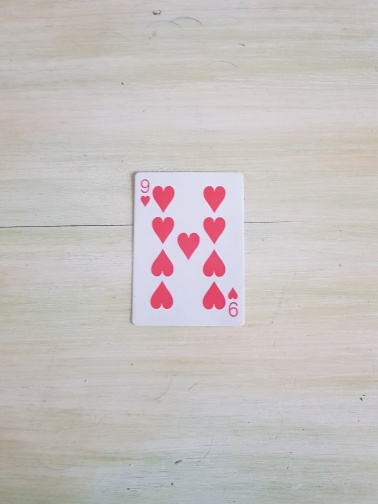nine: (131, 170, 246, 328)
